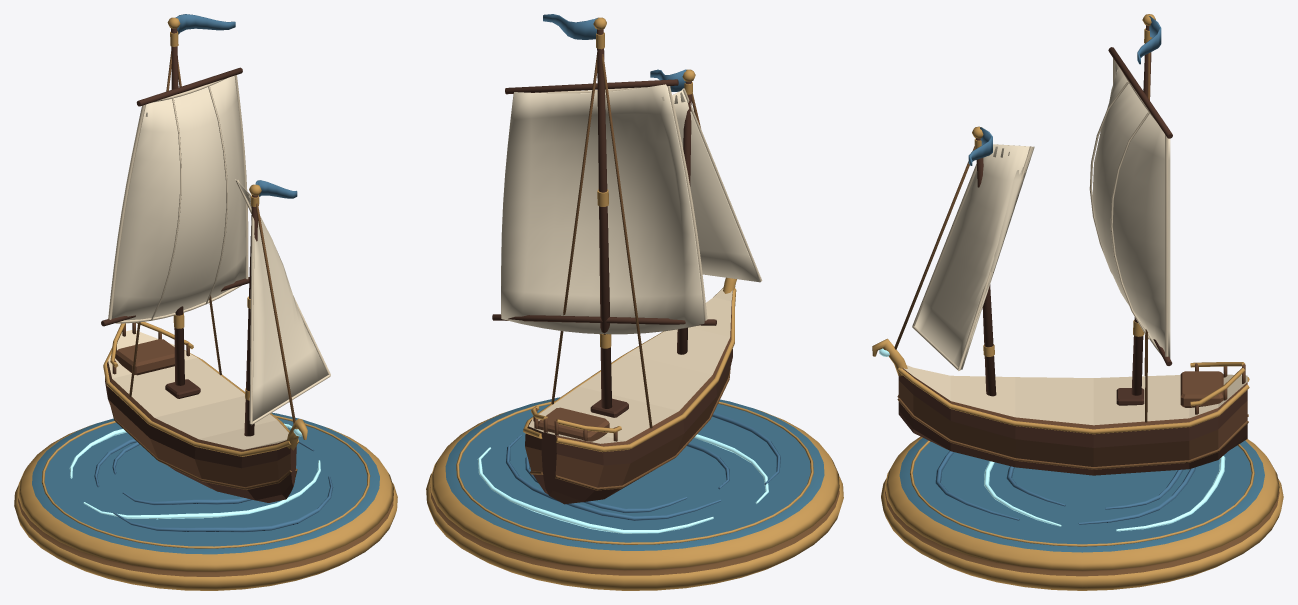
Rendered from pawn_ship.glb.
3 renders of one model, left to right at view 1: azimuth 30°, elevation 25°; view 2: azimuth 150°, elevation 25°; view 3: azimuth 270°, elevation 25°, orthographic. The views are drawn at different scales.
Visible parts, largest first — view 1: pawn_ship; view 2: pawn_ship; view 3: pawn_ship.
Boxes of the visible parts, left/top/right/bottom form: pawn_ship: left=14, top=14, right=397, bottom=590; pawn_ship: left=426, top=14, right=843, bottom=590; pawn_ship: left=872, top=14, right=1283, bottom=590.
Bounding box in the file's own units: 0.992 × 1.36 × 1.01.
